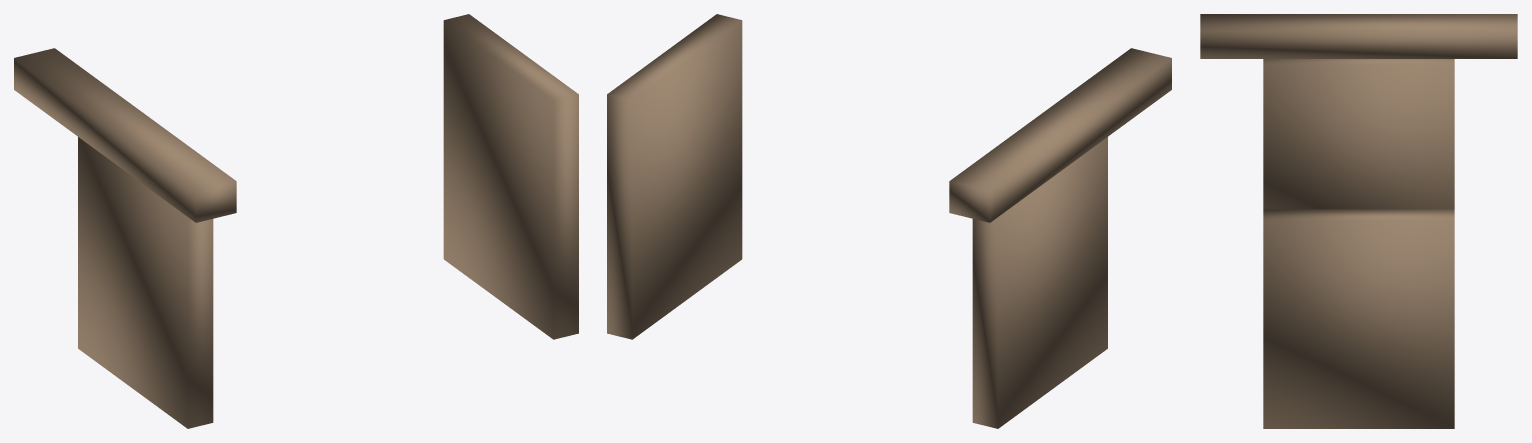
The model's file is luggage_rack.glb.
3 renders of one model, left to right at view 1: azimuth 30°, elevation 25°; view 2: azimuth 150°, elevation 25°; view 3: azimuth 270°, elevation 25°, orthographic. The views are drawn at different scales.
Parts seen in each view (by area): view 1: world; view 2: world; view 3: world.
Boxes of the visible parts, box(x1,y1,x2,y2) form: world: box(14, 14, 578, 428); world: box(607, 14, 1171, 428); world: box(1200, 14, 1517, 428).
Bounding box in the file's own units: 0.825 × 0.51 × 0.62.
